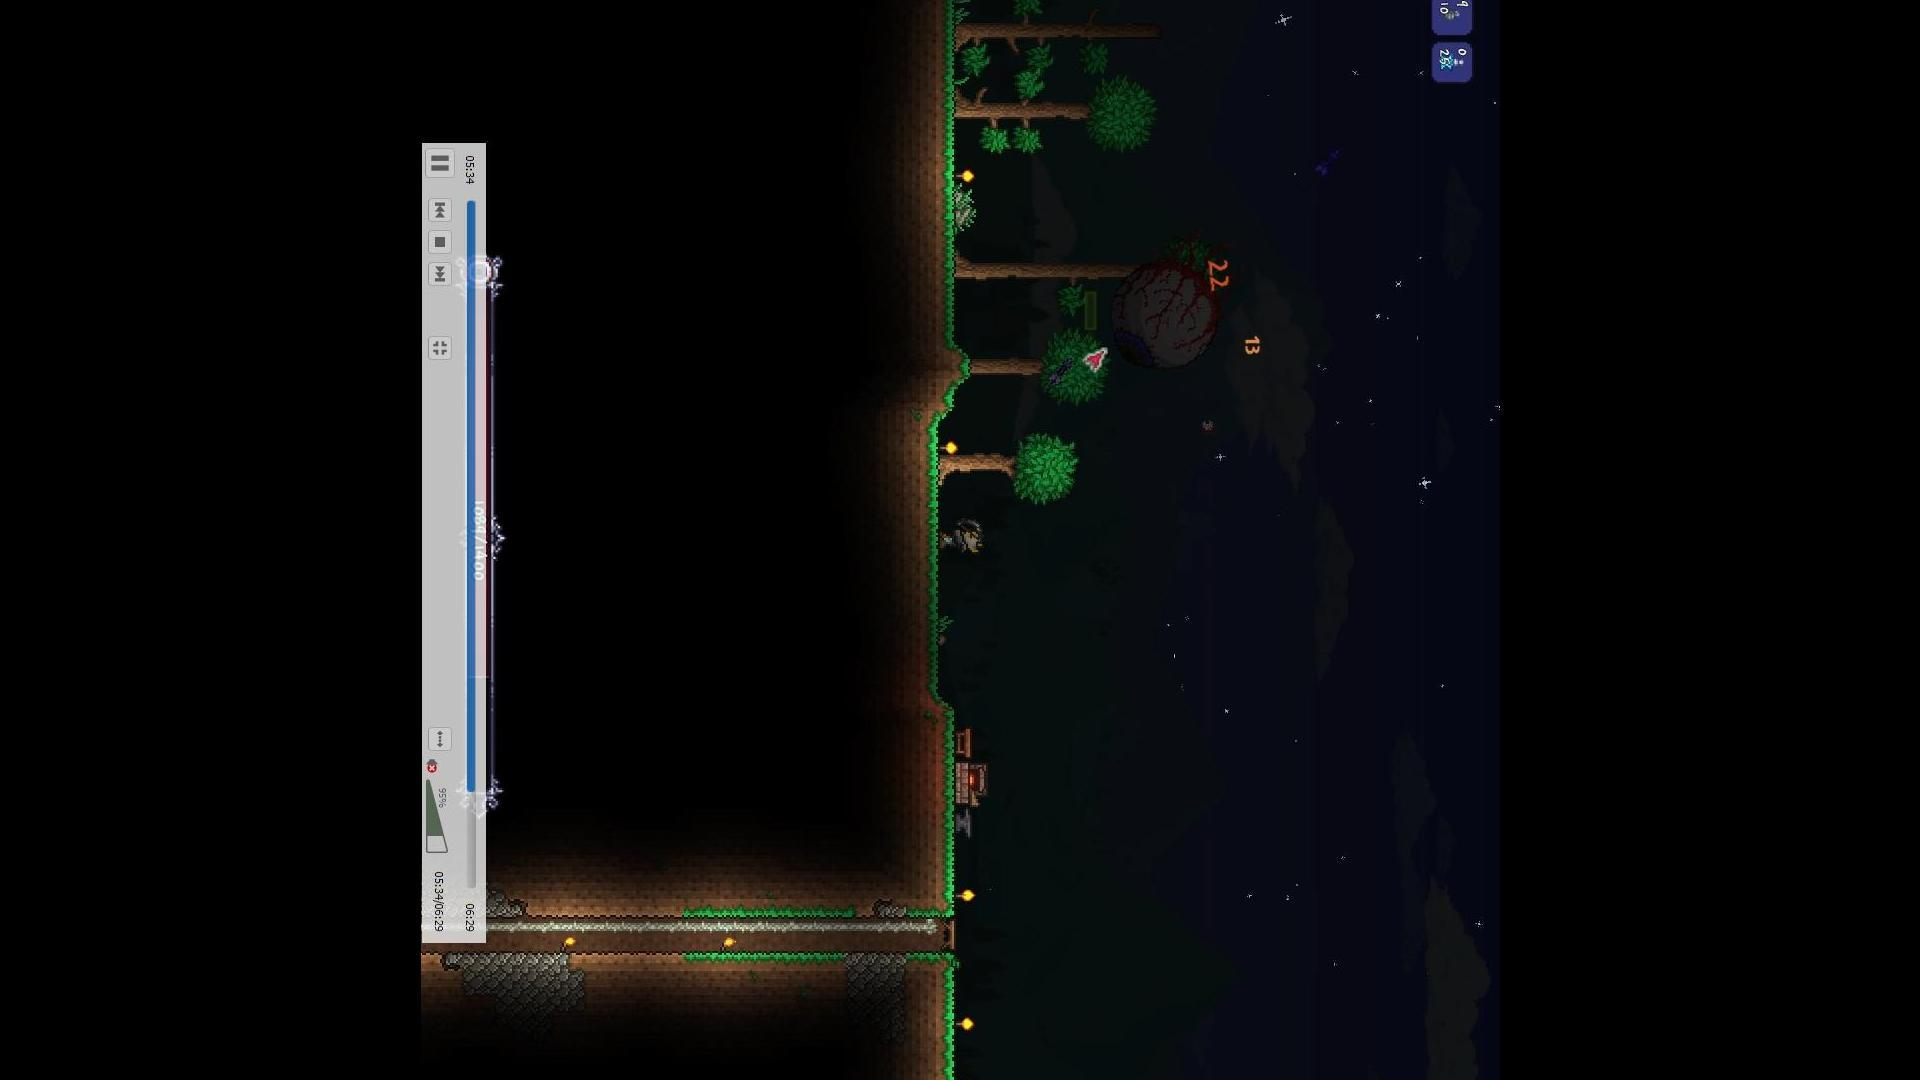anvil: (955, 804, 976, 843)
eyeC: (1105, 251, 1240, 375)
